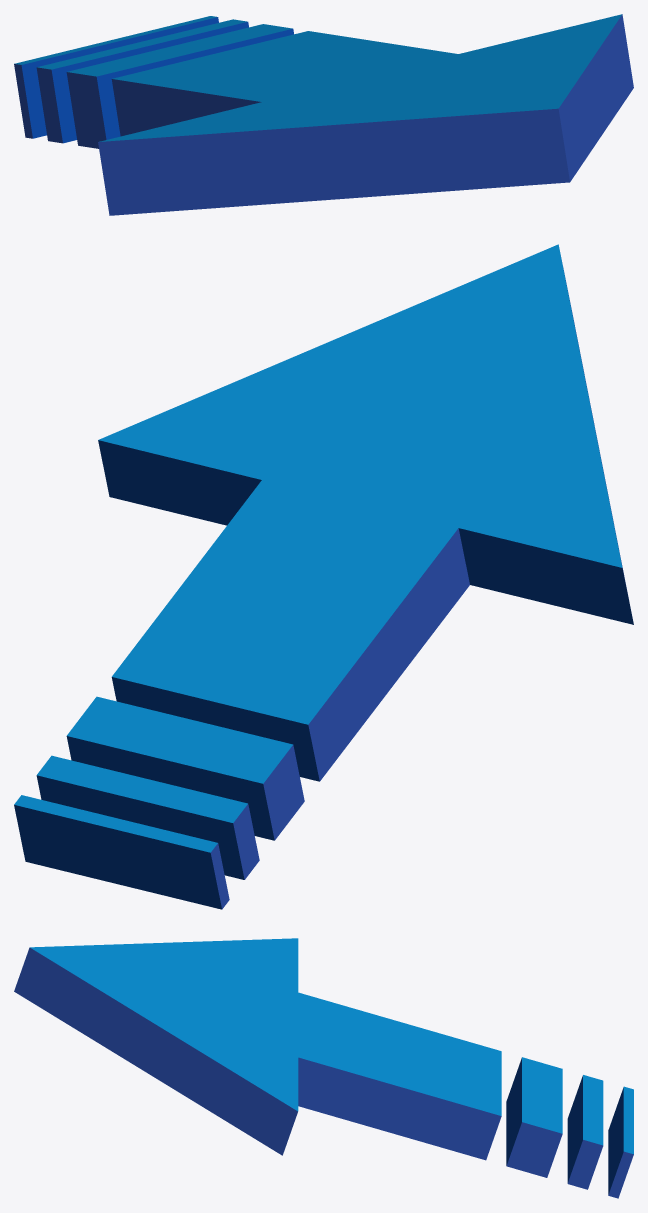
The model's file is arrow.fbx.
3 views of the same model, one above another, from view 1: azimuth 30°, elevation 25°; view 2: azimuth 150°, elevation 25°; view 3: azimuth 270°, elevation 25° (orthographic). The views are drawn at different scales.
Visible parts, largest first — view 1: Cube.001, Cube.002, Cube; view 2: Cube.002, Cube, Cube.001; view 3: Cube.002, Cube.001, Cube.
Part boxes in pixels (x1,y1,x2,y2): Cube.001: (14, 14, 633, 215); Cube.002: (14, 14, 621, 141); Cube: (21, 17, 293, 143); Cube.002: (14, 244, 622, 852); Cube: (14, 440, 633, 909); Cube.001: (210, 268, 629, 909); Cube.002: (30, 938, 633, 1154); Cube.001: (14, 947, 633, 1198); Cube: (506, 1058, 623, 1194).
Bounding box in the file's own units: 256 × 151 × 387.
